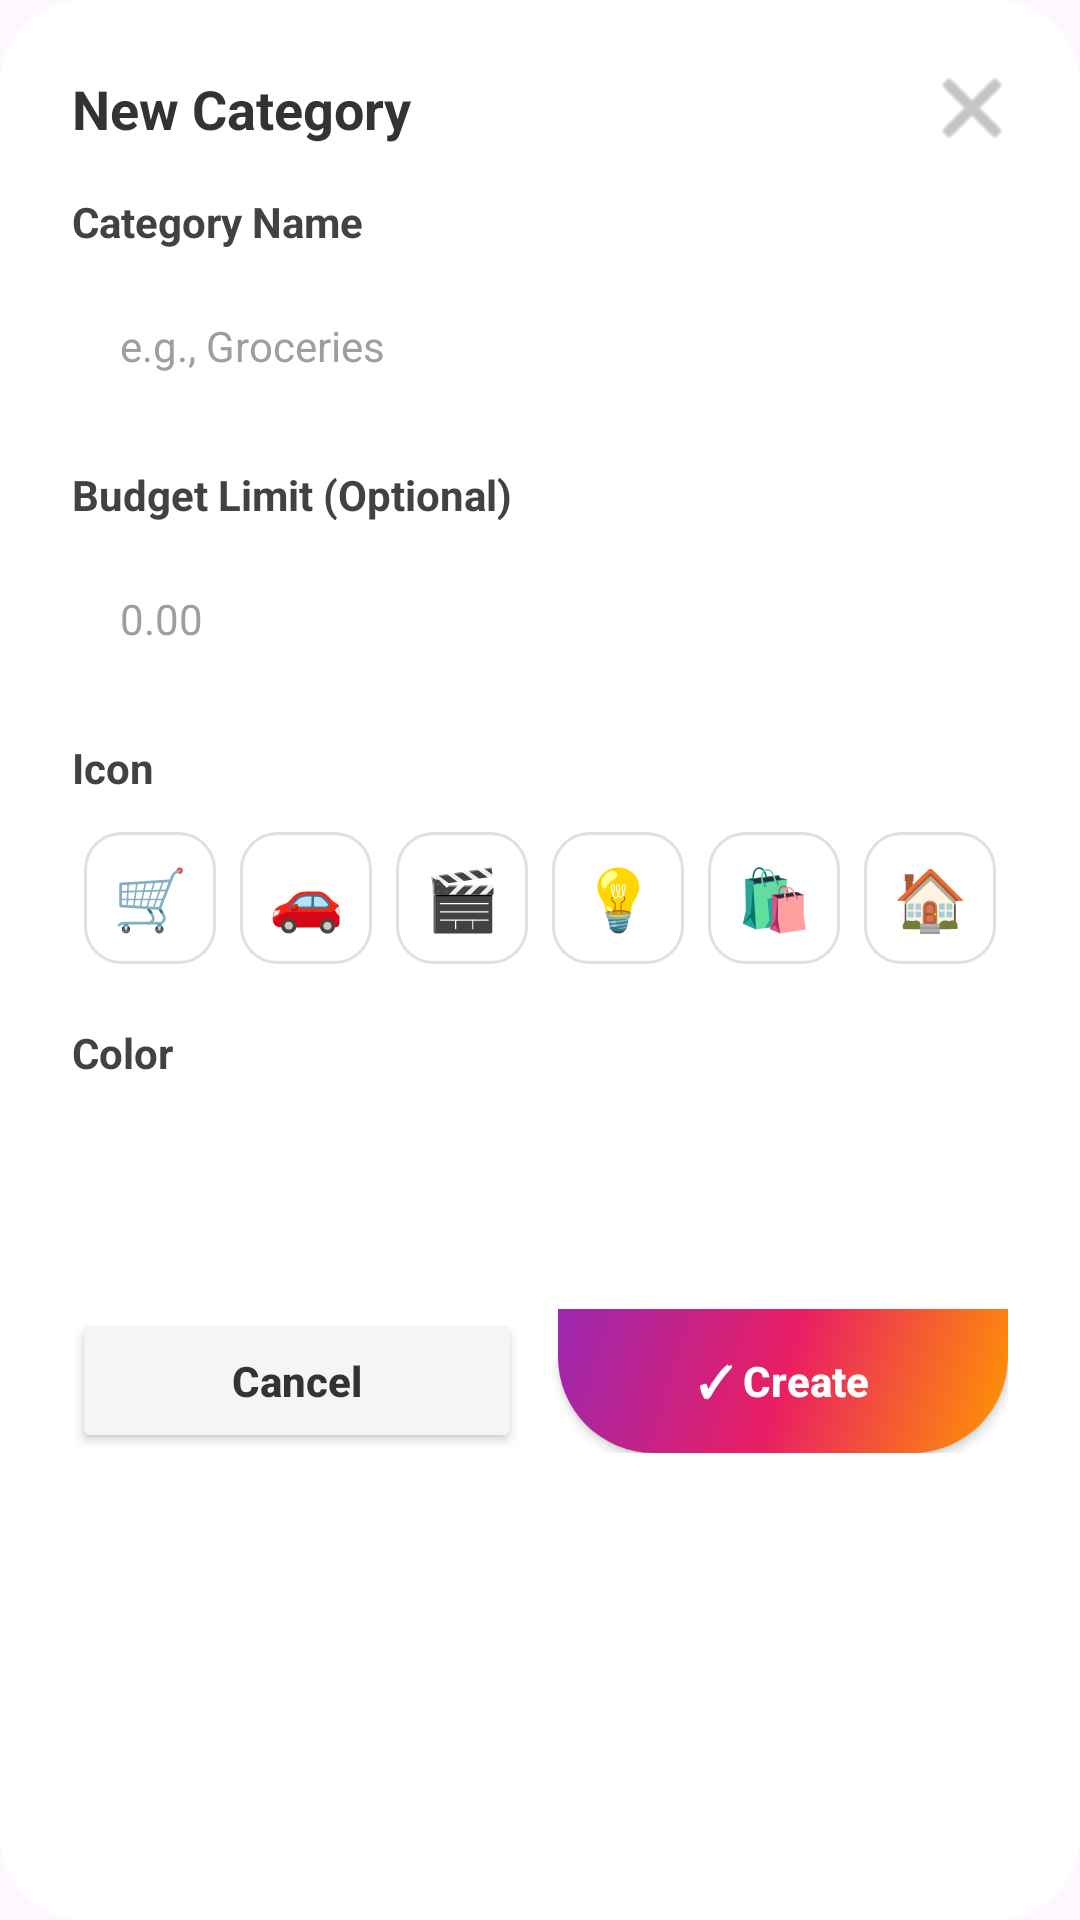

Where icons sit on this 1080px x 1920px app screen, as Rect(x1, y1, x2, y2):
close clear cancel: Rect(943, 79, 1001, 137)
